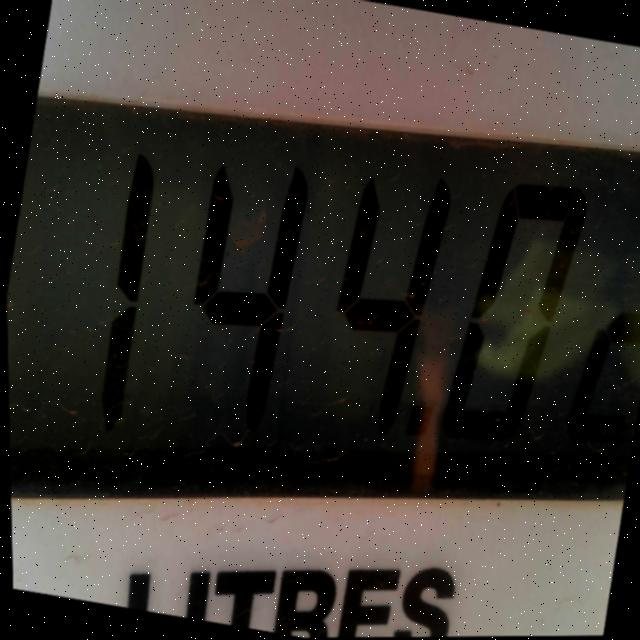.: (387, 386, 446, 476)
0: (419, 162, 587, 478)
9: (160, 146, 347, 477), (294, 161, 458, 463), (51, 129, 190, 461)
